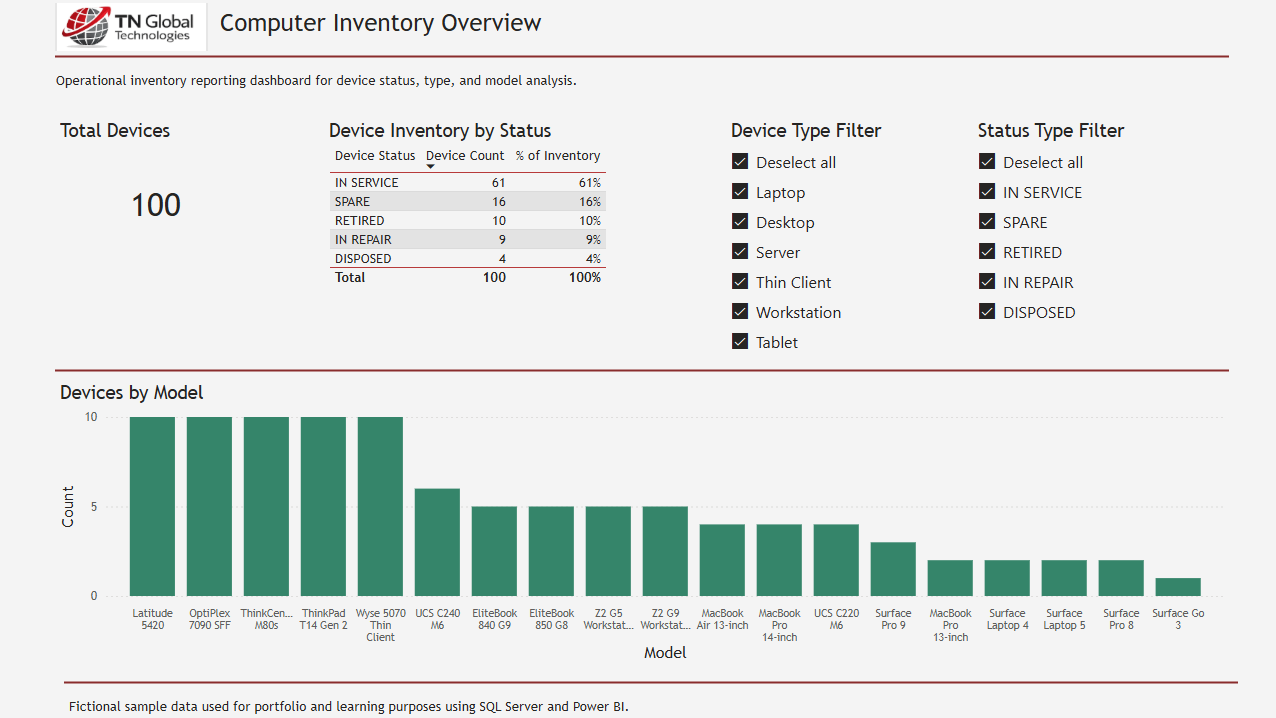

Layout of this report page (visuals, bound fields, positions):
{"tool":"powerbi","page":{"name":"Page 1","canvas":[1280,720],"ordinal":1},"visuals":[{"type":"card","title":"Total Devices","fields":{"Values":["CountNonNull(Computer.CompID)"]},"box":[55.4,118.7,200.4,146.9],"z":0},{"type":"textbox","box":[215,2.9,409.5,37.9],"z":1000},{"type":"tableEx","title":"Device Inventory by Status","fields":{"Values":["CompStatus.StatusName","Computer.CompID","Computer.Percent of Total"]},"box":[323.9,118.7,367.7,227.6],"z":2000},{"type":"columnChart","title":"Devices by Model","fields":{"Category":["Computer.CompModel"],"Y":["CountNonNull(Computer.CompID)"]},"box":[55.4,381.3,1174,286],"z":3000},{"type":"listSlicer","title":"Device Type Filter","fields":{"Values":["CompType.CompTypeName"]},"box":[725.6,118.7,194.5,246.1],"z":4000},{"type":"listSlicer","title":"Status Type Filter","fields":{"Values":["CompStatus.StatusName"]},"box":[972.6,118.7,241.2,227.6],"z":5000},{"type":"shape","box":[55.4,45.7,1174,21.4],"z":6000},{"type":"shape","box":[55.4,359.9,1174,21.4],"z":7000},{"type":"textbox","box":[64.2,693.5,819.9,26.3],"z":8000},{"type":"textbox","box":[50.6,67.1,573.9,27.2],"z":9000},{"type":"shape","box":[64.2,672.1,1174,21.4],"z":10000},{"type":"image","box":[55.4,2.9,152.7,47.7],"z":11000}]}

Visuals, with their boxes in screenshot pixels (x1, y1, x2, y2), scaled from the page's 1280x720 canvas onto the 1276x718 screenshot:
"Total Devices" card: box=[55, 118, 255, 265]
textbox: box=[214, 3, 623, 41]
"Device Inventory by Status" tableEx: box=[323, 118, 689, 345]
"Devices by Model" columnChart: box=[55, 380, 1226, 665]
"Device Type Filter" listSlicer: box=[723, 118, 917, 364]
"Status Type Filter" listSlicer: box=[970, 118, 1210, 345]
shape: box=[55, 46, 1226, 67]
shape: box=[55, 359, 1226, 380]
textbox: box=[64, 692, 881, 717]
textbox: box=[50, 67, 623, 94]
shape: box=[64, 670, 1234, 692]
image: box=[55, 3, 207, 50]
